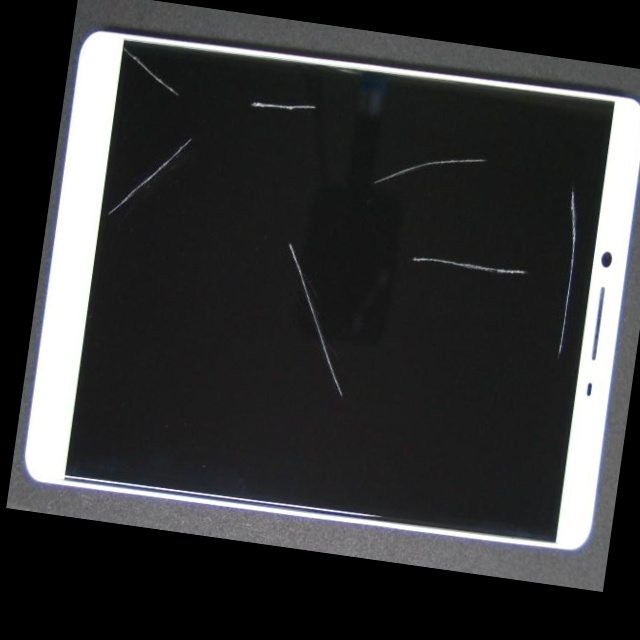scratch: (348, 144, 640, 383), (221, 290, 485, 520), (338, 58, 640, 242), (325, 183, 640, 343), (231, 54, 423, 155), (146, 25, 229, 231), (63, 0, 192, 120)
